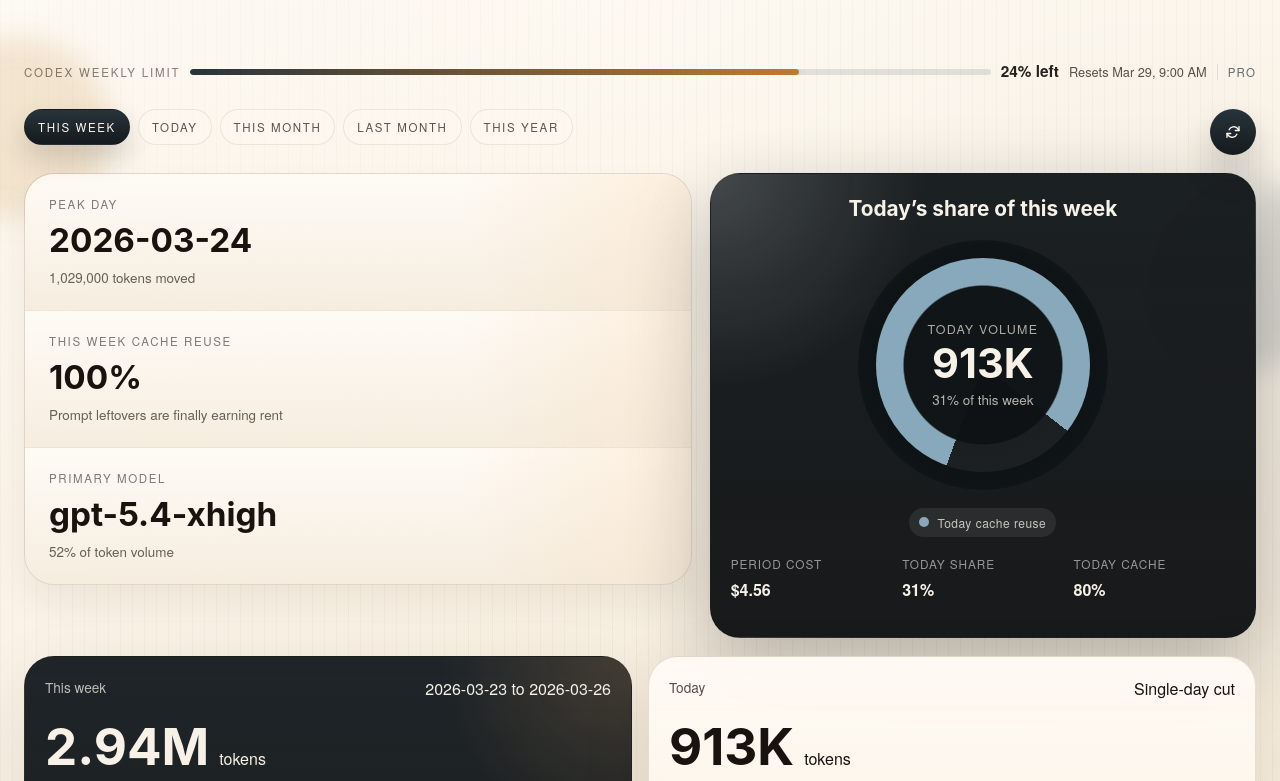
Test case: App › shows refresh guidance on hover and hides it on mouse leave
Hover over the button named "Refresh".
mouse_move(1233, 132)  # box [1210,109,1256,155]
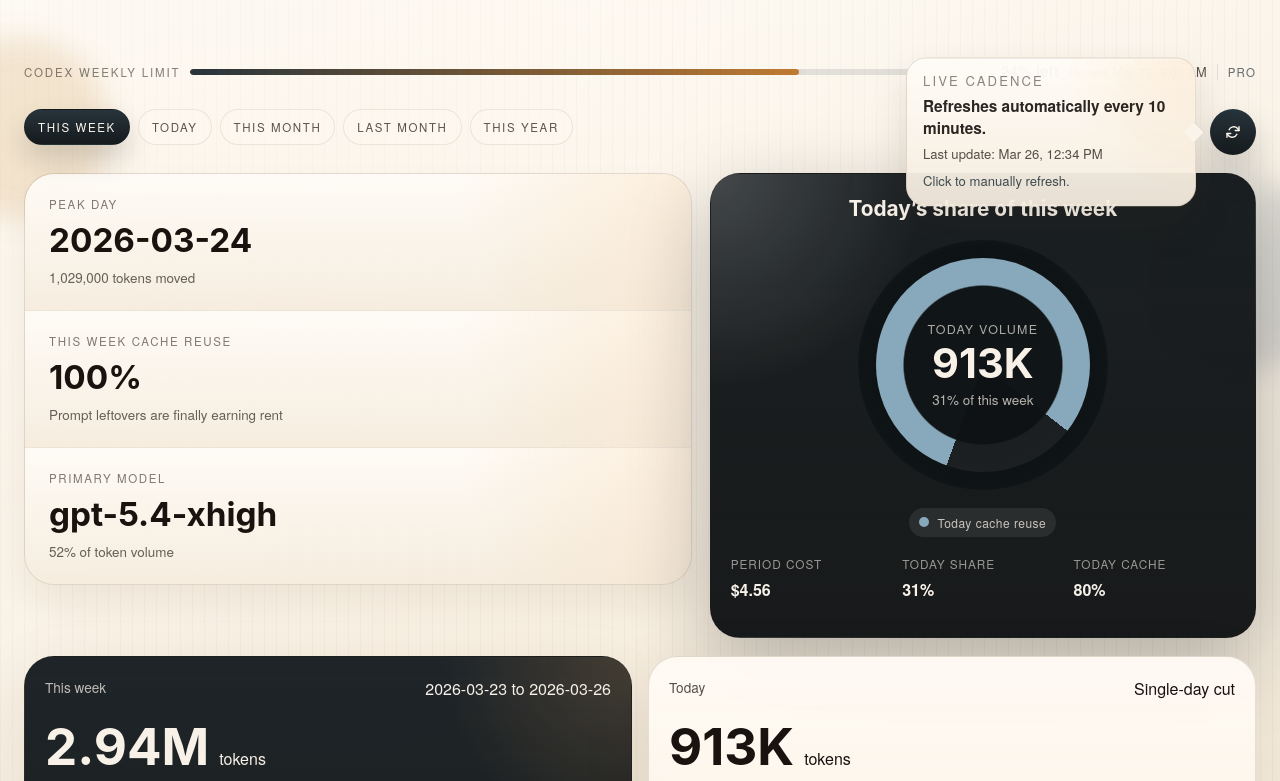
Expected: the text "Live cadence" is shown, [923,71,1044,90]
Expected: the text "Click to manually refresh." is shown, [923,171,1070,190]
Move the pointer off the button named "Refresh", box [1210,109,1256,155]
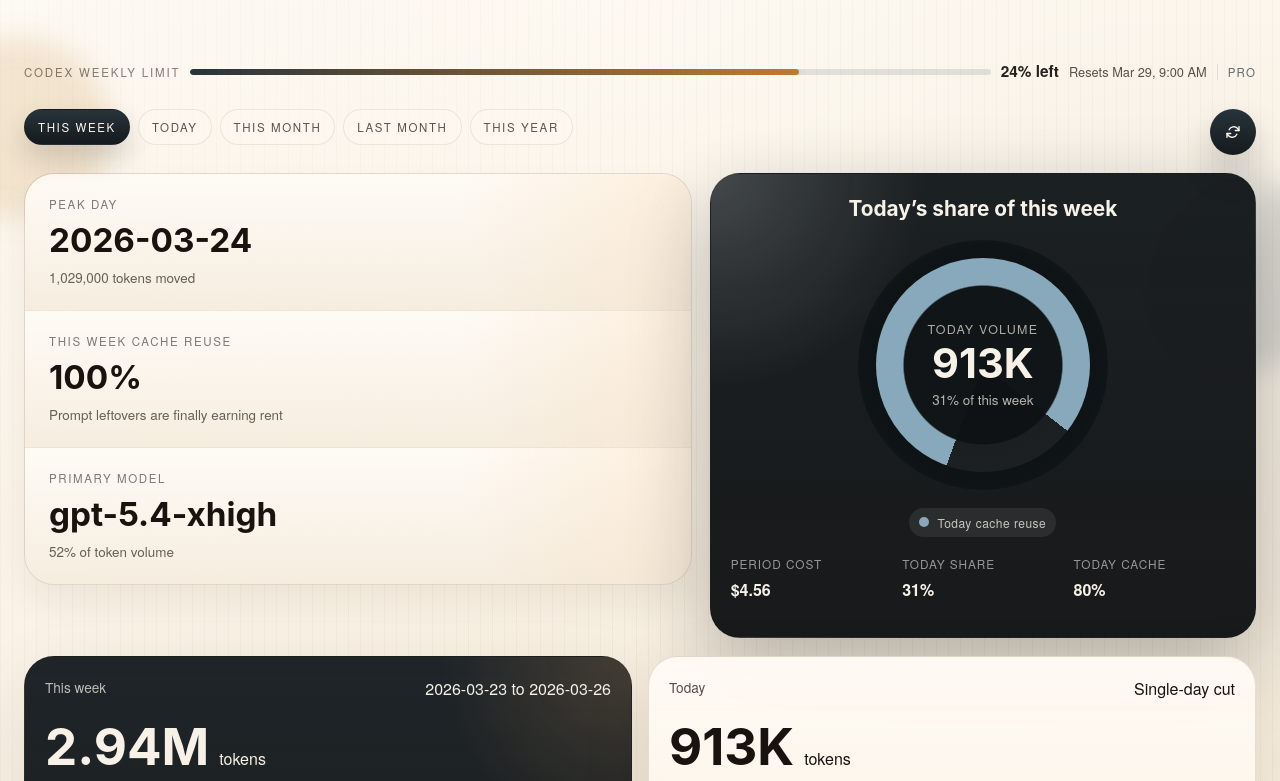
Expected: the tooltip is gone
